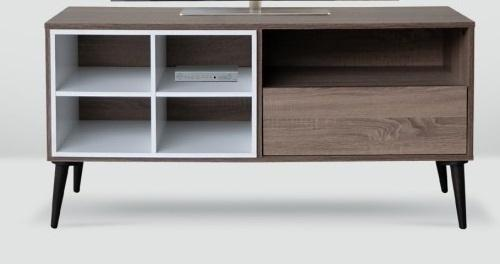cabinet_door: (260, 87, 465, 155)
